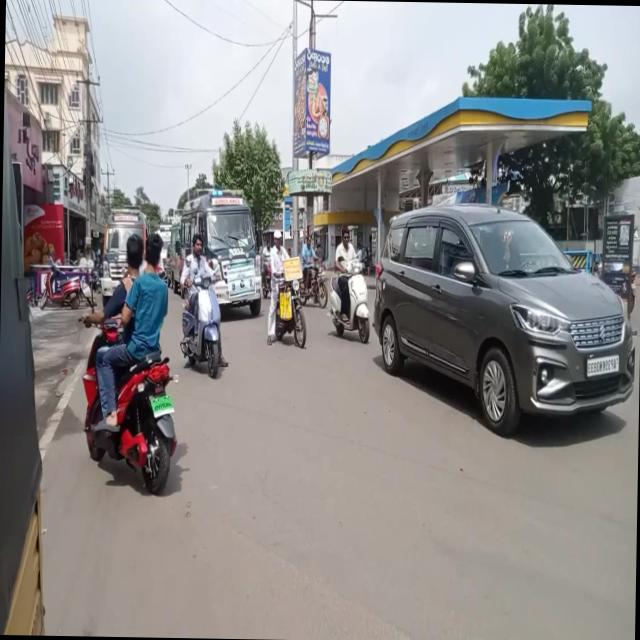ambulance: (179, 187, 262, 296)
